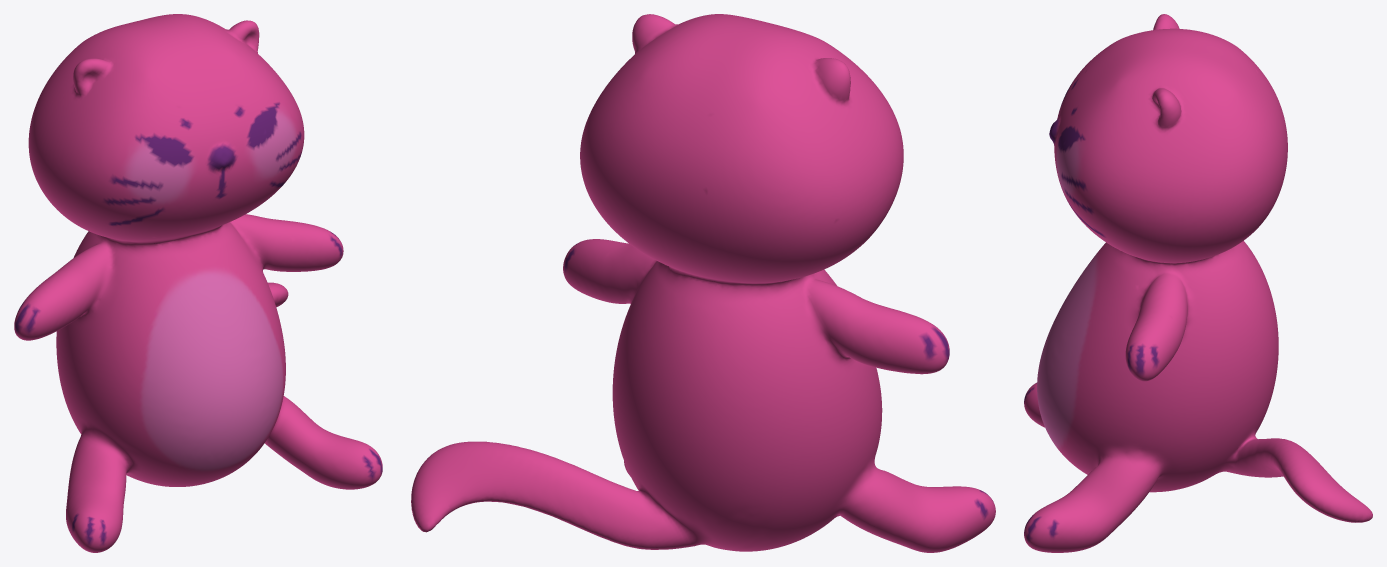
File: Project (1).fbx
3 renders of one model, left to right at view 1: azimuth 30°, elevation 25°; view 2: azimuth 150°, elevation 25°; view 3: azimuth 270°, elevation 25°, orthographic. The views are drawn at different scales.
Visible parts, largest first — view 1: Sphere 1; view 2: Sphere 1; view 3: Sphere 1.
Boxes of the visible parts, x1=… form: Sphere 1: x1=14, y1=14, x2=382, y2=552; Sphere 1: x1=411, y1=14, x2=995, y2=552; Sphere 1: x1=1024, y1=14, x2=1372, y2=552.
Bounding box in the file's own units: 0.993 × 1.19 × 0.8399.
